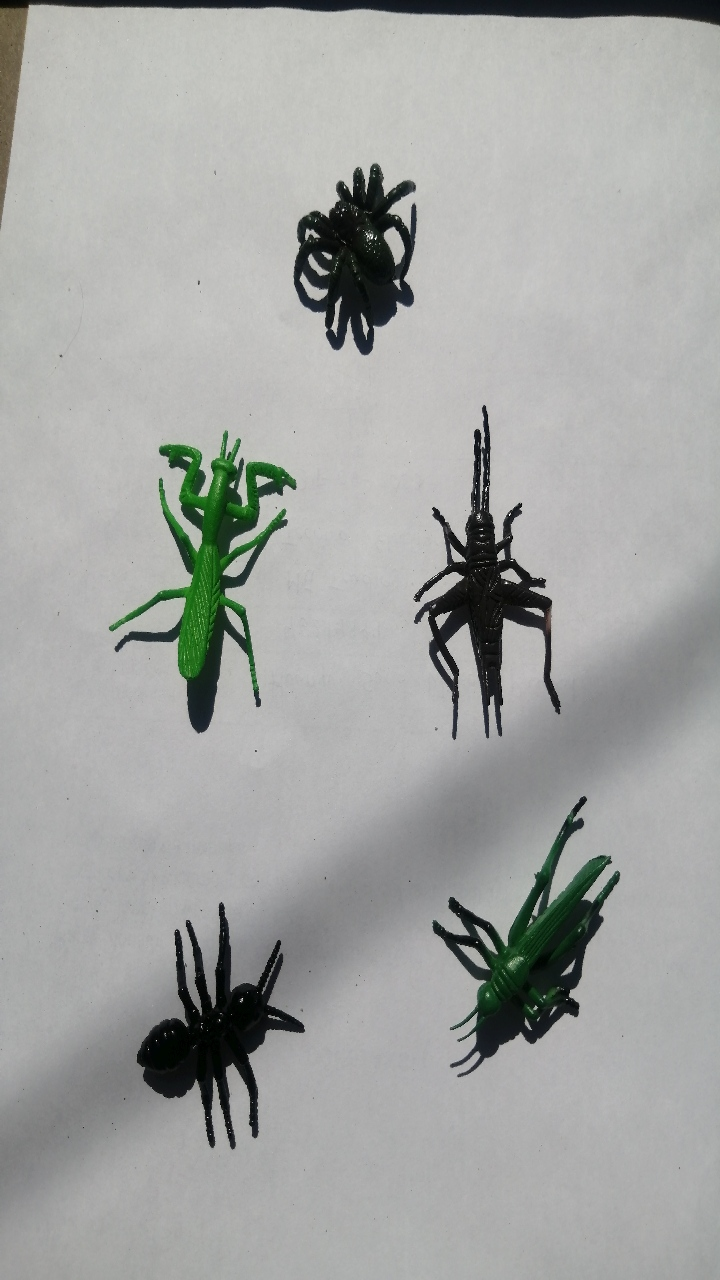intruso: (411, 772, 643, 1097), (381, 388, 571, 754), (100, 412, 295, 739), (111, 859, 321, 1162), (260, 148, 429, 363)
